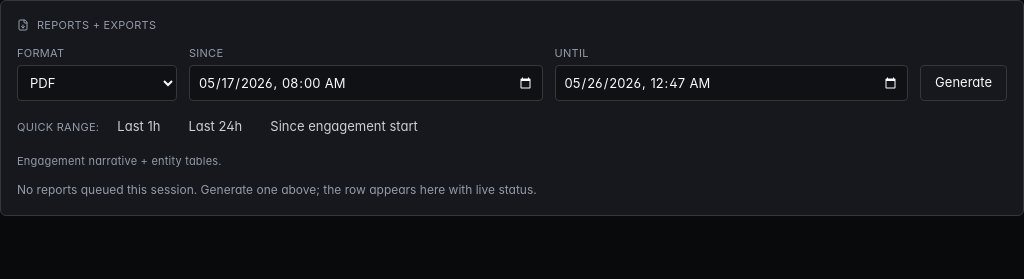
ReportsPanel › surfaces the backend error string when status is failed
The width and height of the screenshot is (1024, 279).
Click the button "Generate" at (964, 83), box [920,65,1007,101]
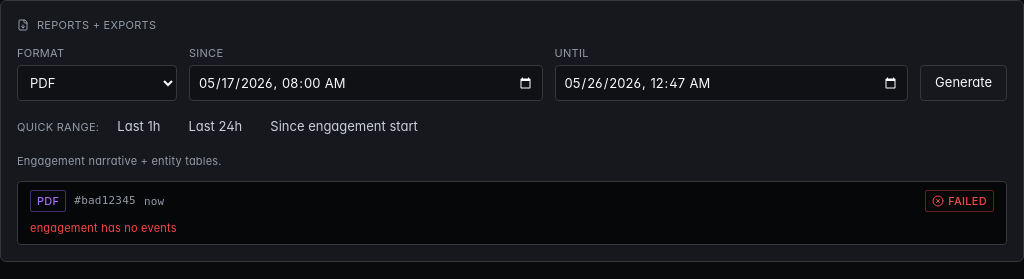
Expected: the text "engagement has no events" is shown, [30,221,177,235]
